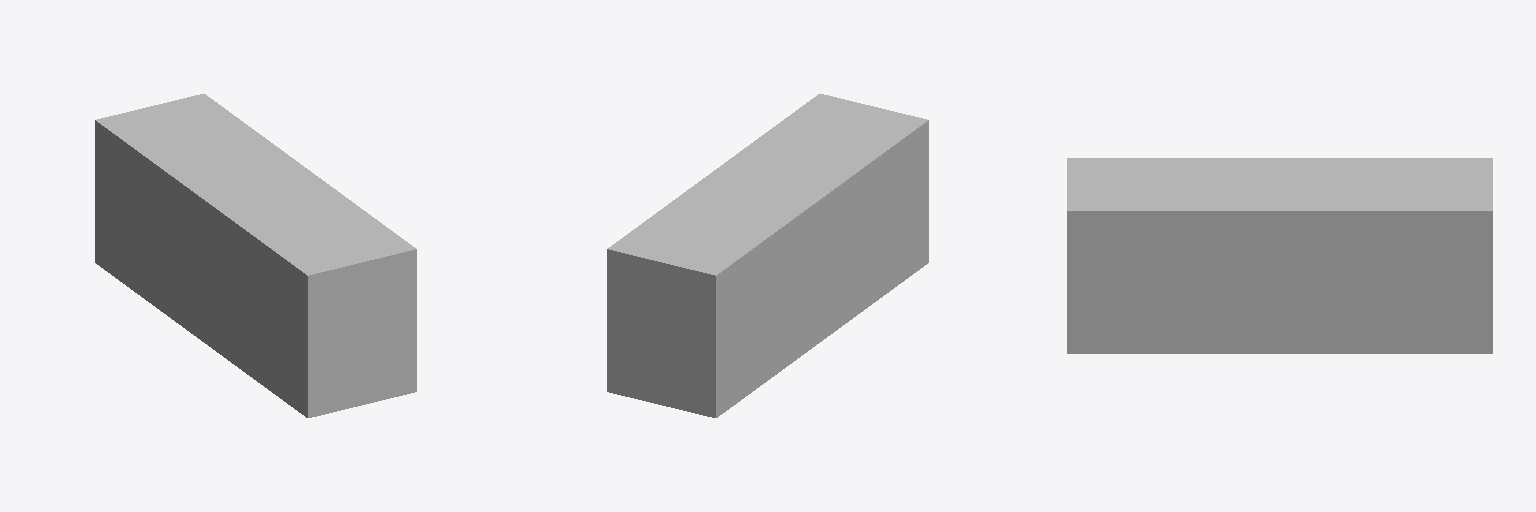
Rendered from zm_perk_machine_juggernog.obj.
3 views of the same model, side by side, from view 1: azimuth 30°, elevation 25°; view 2: azimuth 150°, elevation 25°; view 3: azimuth 270°, elevation 25° (orthographic).
Visible parts, largest first — view 1: co_culling; view 2: co_culling, c_convex_003; view 3: co_culling.
Boxes of the visible parts, box(x1,y1,x2,y2) form: co_culling: box(95, 94, 416, 417); co_culling: box(607, 94, 928, 417); c_convex_003: box(610, 274, 712, 381); co_culling: box(1067, 158, 1492, 353).
Bounding box in the file's own units: 80 × 100 × 270.